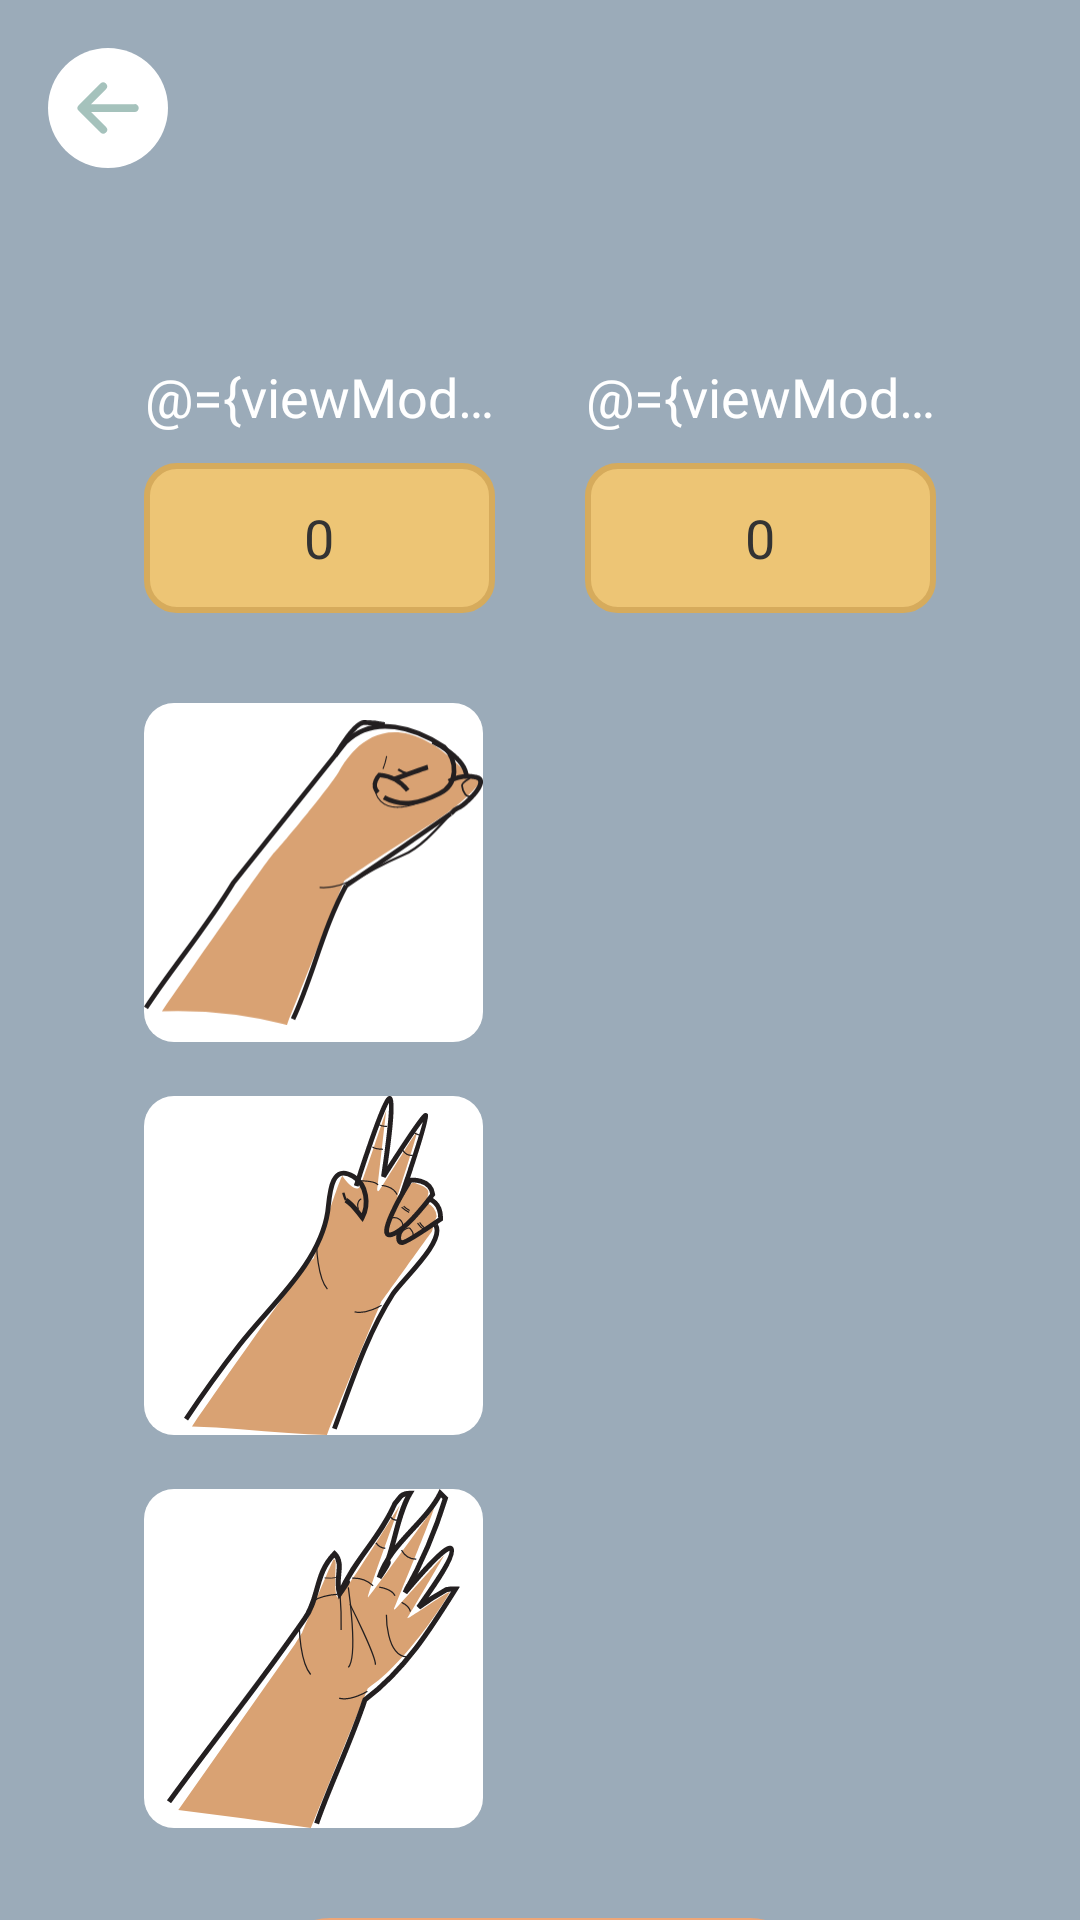

Icons on this 1080×1920 Android screen, each with the point to tap as point (x, y):
batu kiri: point (313, 872)
gunting kiri: point (313, 1265)
Kembali Ke Menu: point (108, 108)
kertas kiri: point (313, 1658)
